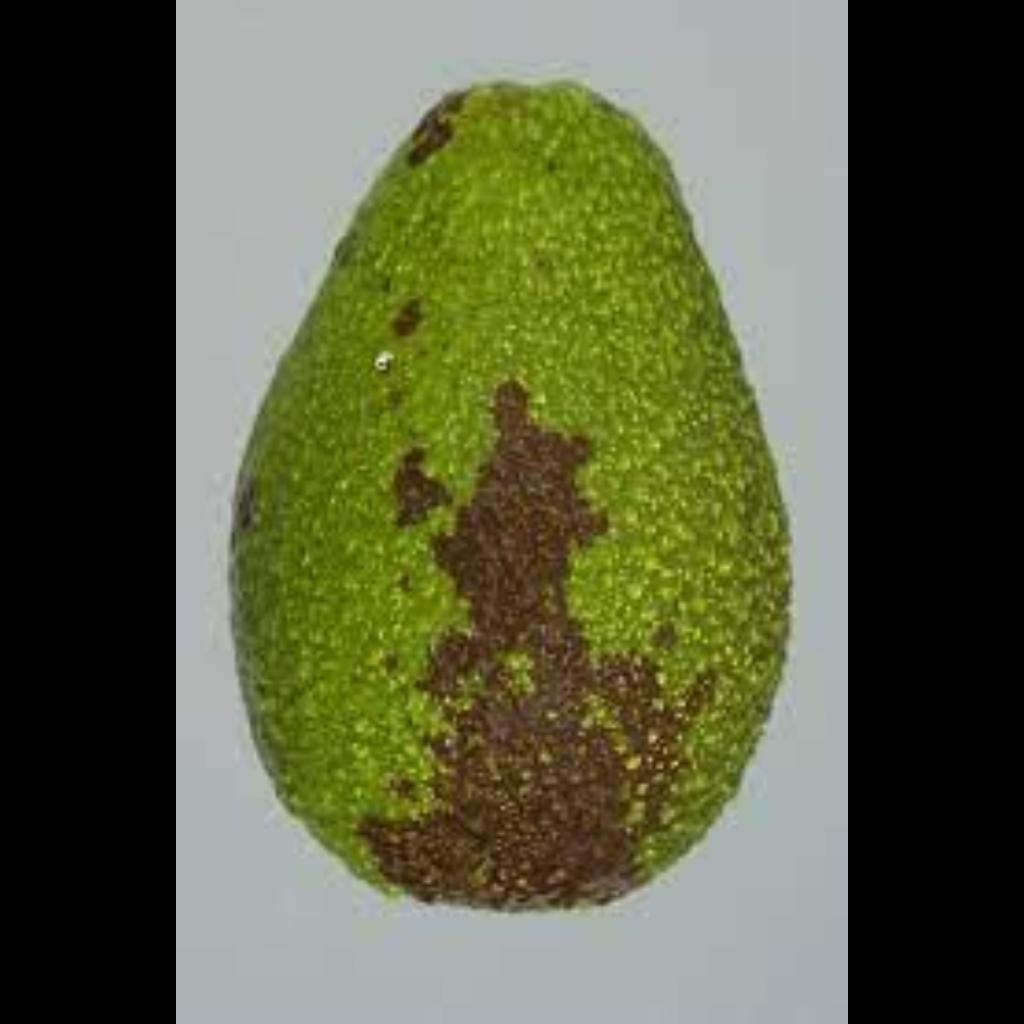cercospora: (272, 99, 782, 911)
